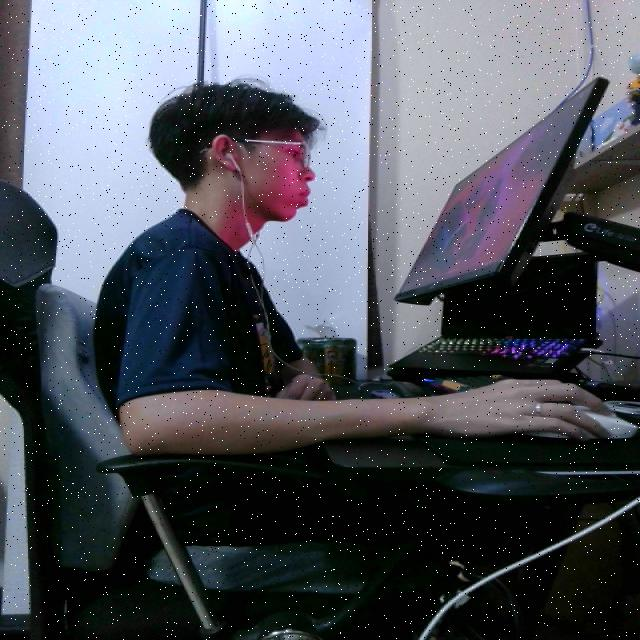Good: (63, 68, 463, 480)
